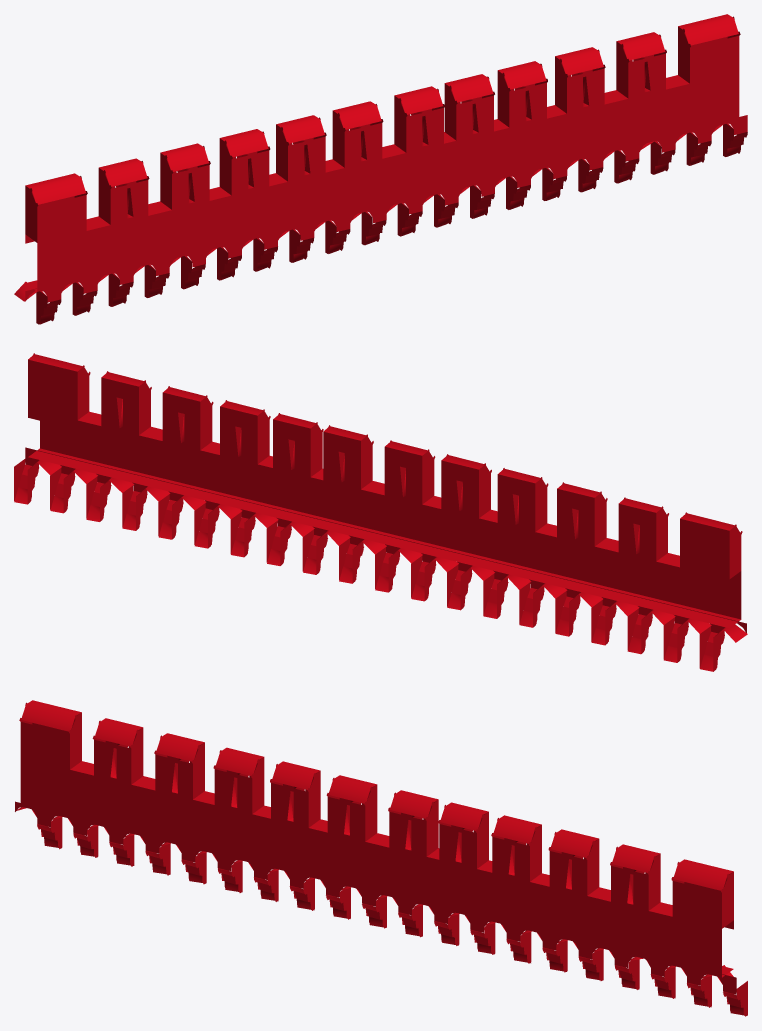
3 views of the same model, one above another, from view 1: azimuth 30°, elevation 25°; view 2: azimuth 150°, elevation 25°; view 3: azimuth 330°, elevation 25° (orthographic).
Visible parts, largest first — view 1: Group_2.000; view 2: Group_2.000; view 3: Group_2.000.
Part boxes in pixels (x1,y1,x2,y2): Group_2.000: [14, 14, 747, 324]; Group_2.000: [14, 353, 747, 671]; Group_2.000: [15, 700, 747, 1016].
Bounding box in the file's own units: 1922 × 370 × 71.73.
